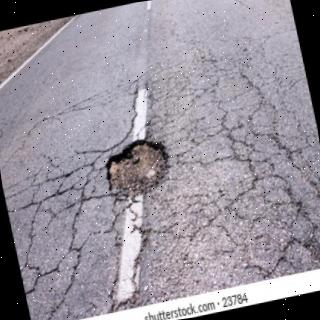pothole: (105, 140, 169, 201)
